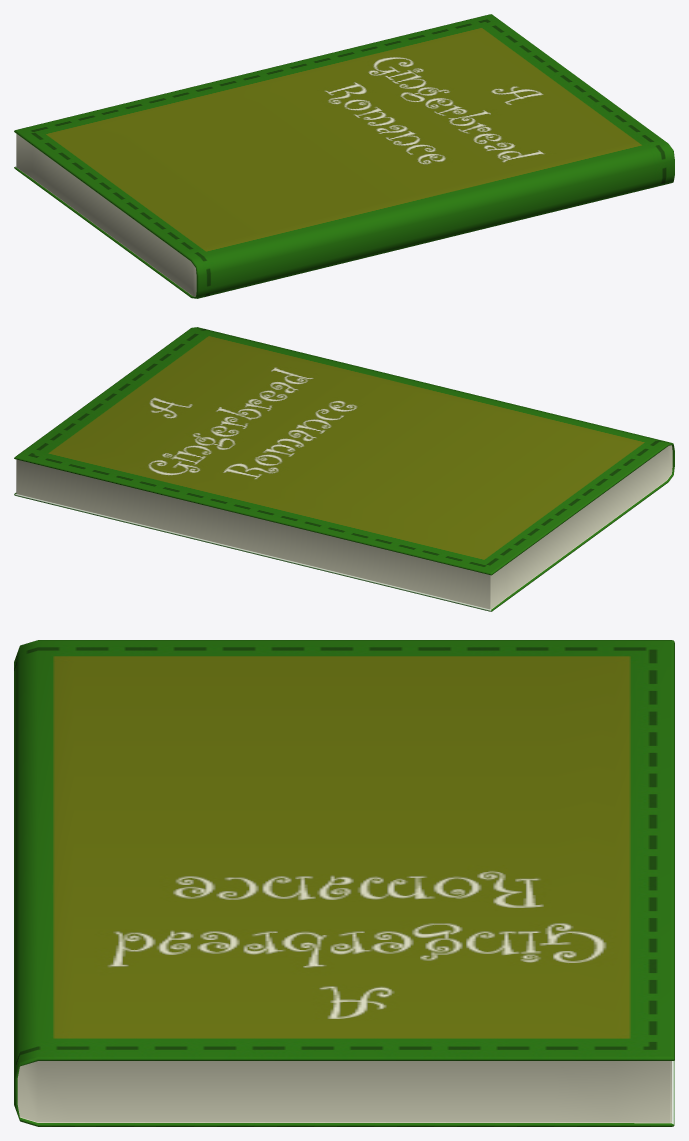
The model's file is GreenBook_Naughty_1.FBX.
3 views of the same model, one above another, from view 1: azimuth 30°, elevation 25°; view 2: azimuth 150°, elevation 25°; view 3: azimuth 270°, elevation 25° (orthographic). The views are drawn at different scales.
Parts seen in each view (by area): view 1: GreenBook; view 2: GreenBook; view 3: GreenBook.
Part boxes in pixels (<box>): GreenBook: <box>14,14,674,298</box>; GreenBook: <box>14,327,674,611</box>; GreenBook: <box>14,640,674,1126</box>.
Size of the model in its own units: 9 by 0.7 by 6.
